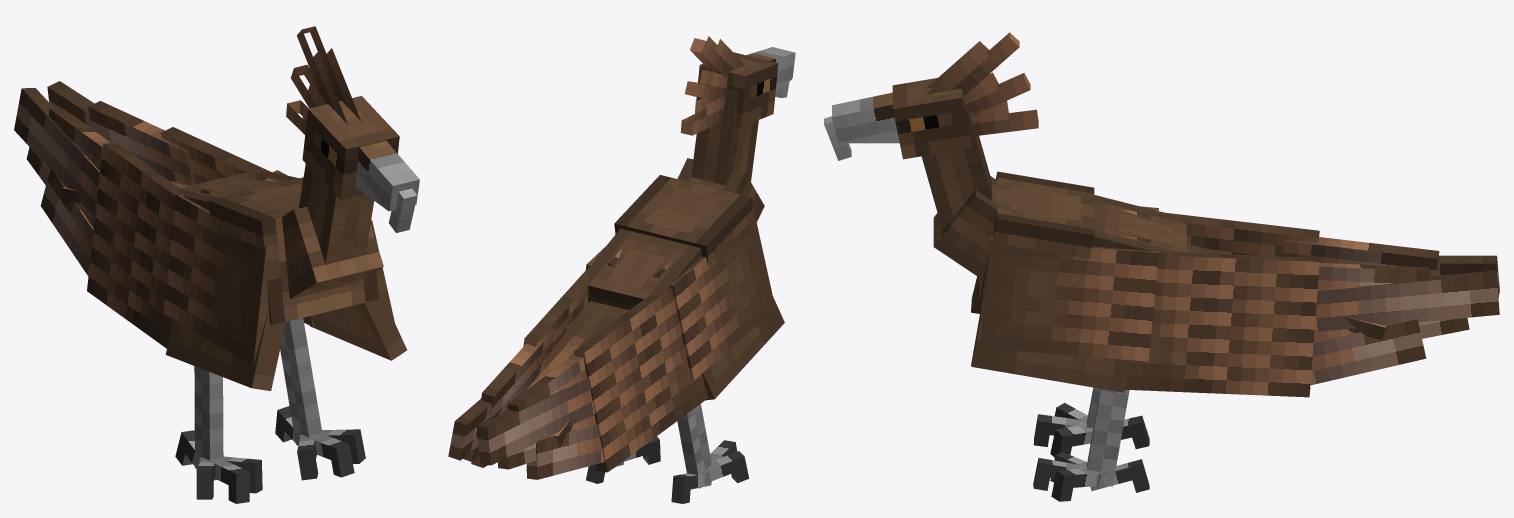
File: stymphalian_bird.glb
3 renders of one model, left to right at view 1: azimuth 30°, elevation 25°; view 2: azimuth 150°, elevation 25°; view 3: azimuth 270°, elevation 25°, orthographic. The views are drawn at different scales.
Parts seen in each view (by area): view 1: root; view 2: root; view 3: root.
Boxes of the visible parts, x1=… form: root: x1=14, y1=26, x2=419, y2=503; root: x1=448, y1=36, x2=795, y2=503; root: x1=824, y1=32, x2=1499, y2=501.
Size of the model in its own units: 0.7884 by 2.26 by 3.
1 material, 1 textured.
